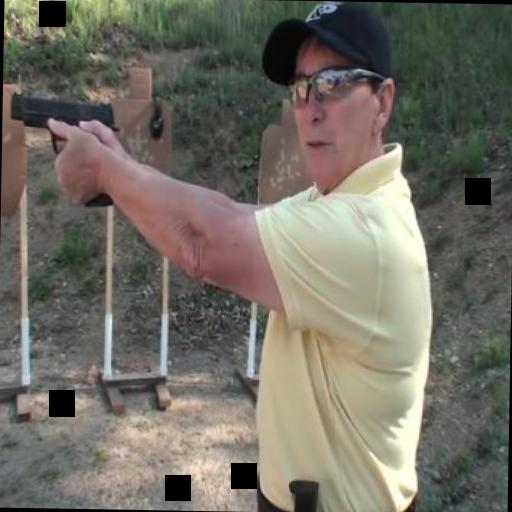Handgun: (4, 92, 119, 207)
